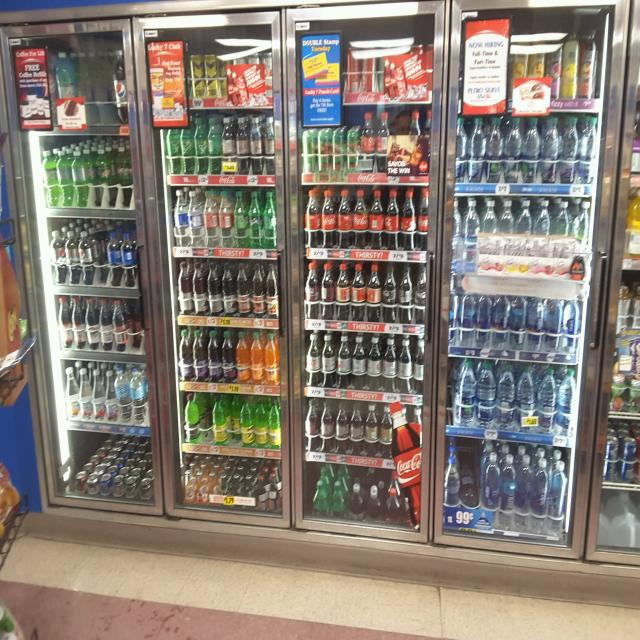unorganised: (58, 150, 90, 208), (114, 149, 132, 209), (206, 115, 222, 177), (225, 396, 241, 450), (461, 461, 478, 511)
